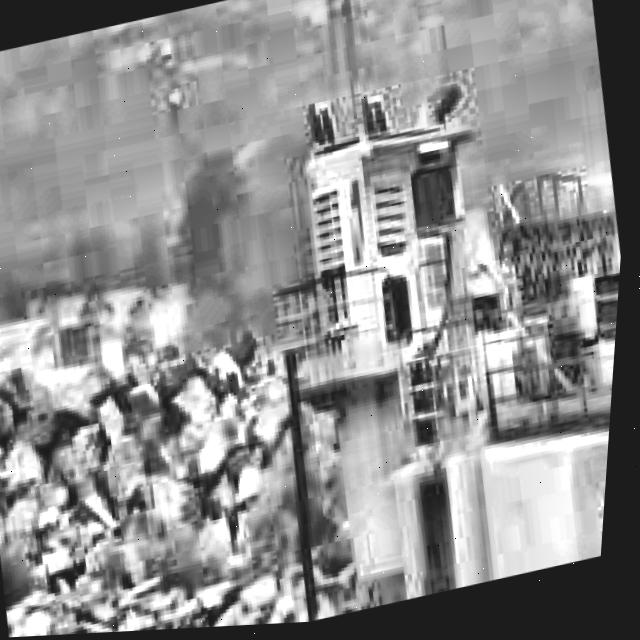excavator: (211, 38, 637, 630)
